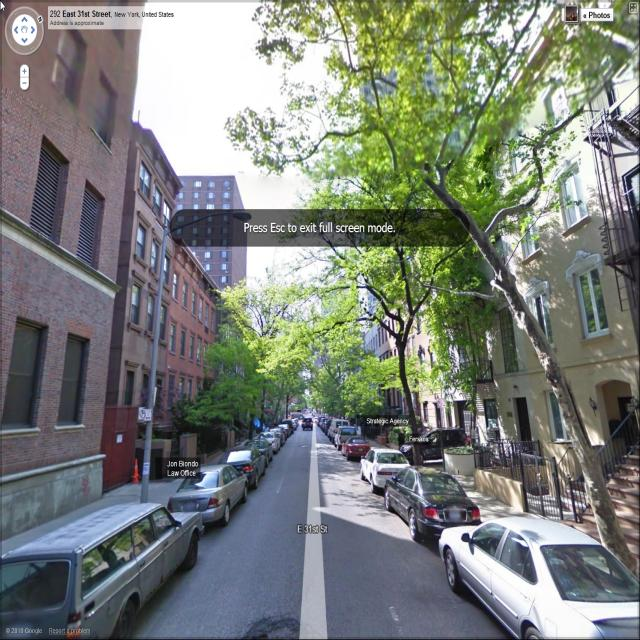b_1: (7, 1, 123, 492), (111, 132, 180, 466), (160, 238, 231, 454), (171, 161, 253, 320)
b_2: (495, 65, 640, 479), (358, 1, 488, 354), (462, 110, 562, 479), (573, 3, 640, 354), (410, 191, 490, 483), (349, 292, 427, 419)
